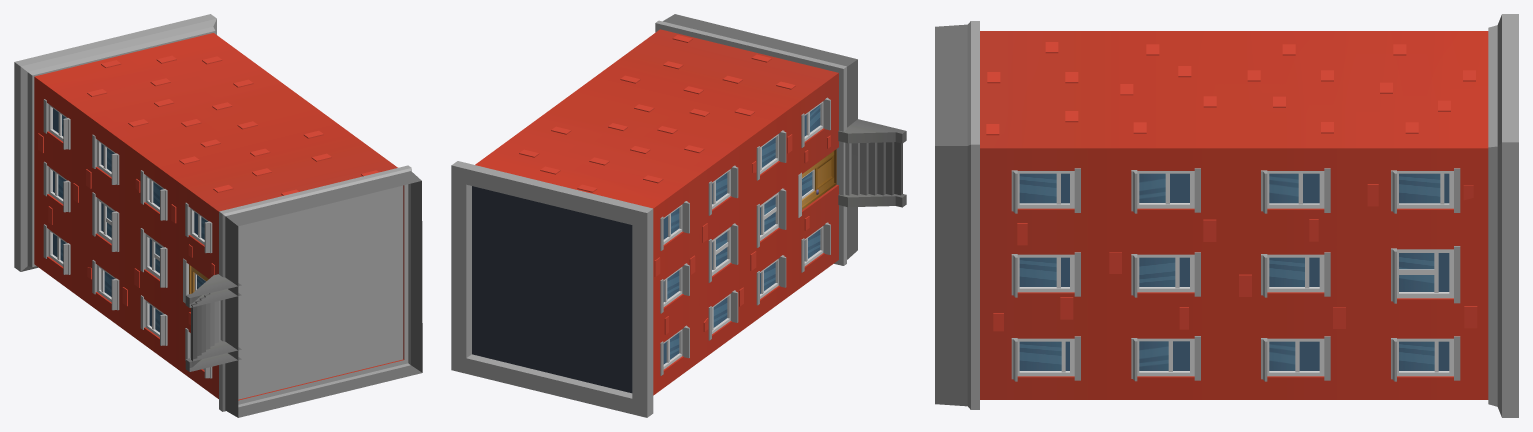
Rendered from Building_2_2_A.fbx.
3 views of the same model, side by side, from view 1: azimuth 30°, elevation 25°; view 2: azimuth 150°, elevation 25°; view 3: azimuth 270°, elevation 25° (orthographic). The views are drawn at different scales.
Parts seen in each view (by area): view 1: Building_2_2_A; view 2: Building_2_2_A; view 3: Building_2_2_A.
Boxes of the visible parts, x1=… form: Building_2_2_A: x1=14, y1=14, x2=422, y2=417; Building_2_2_A: x1=451, y1=14, x2=906, y2=417; Building_2_2_A: x1=935, y1=14, x2=1518, y2=417.
Size of the model in its own units: 754 by 620 by 1191.
